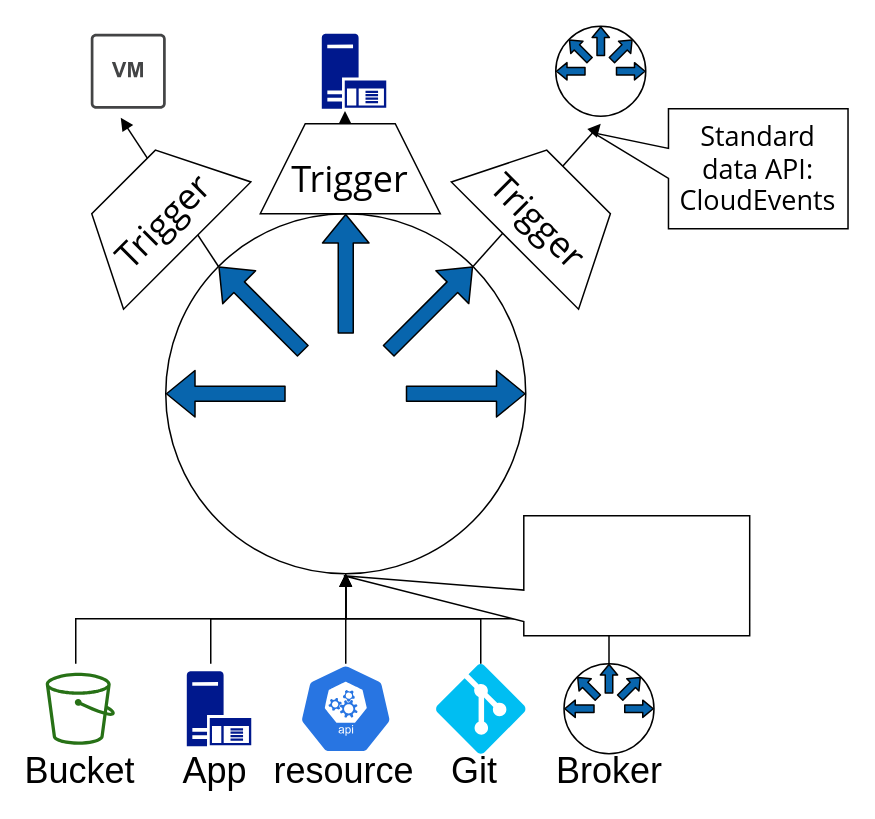
This 875x819 diagram has some shape labels left out. The box of each missing label's shape, as (x1, y1, x2, y2) in pixels:
Knative Broker: (164, 212, 526, 574)
Standard API shape: Callable ( status.address ): (342, 514, 750, 636)
